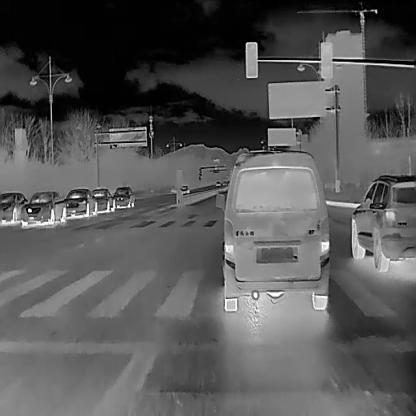car: (221, 148, 332, 311), (350, 173, 414, 272), (23, 189, 65, 224), (65, 186, 96, 215), (0, 188, 23, 222), (92, 186, 114, 210), (113, 186, 137, 206), (180, 183, 190, 193), (215, 179, 220, 187)
